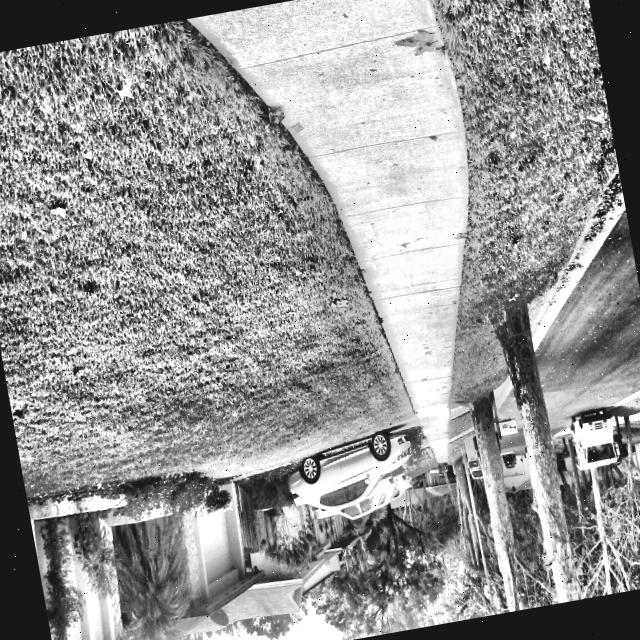car: (271, 428, 426, 520)
sidewalks: (186, 0, 514, 452)
